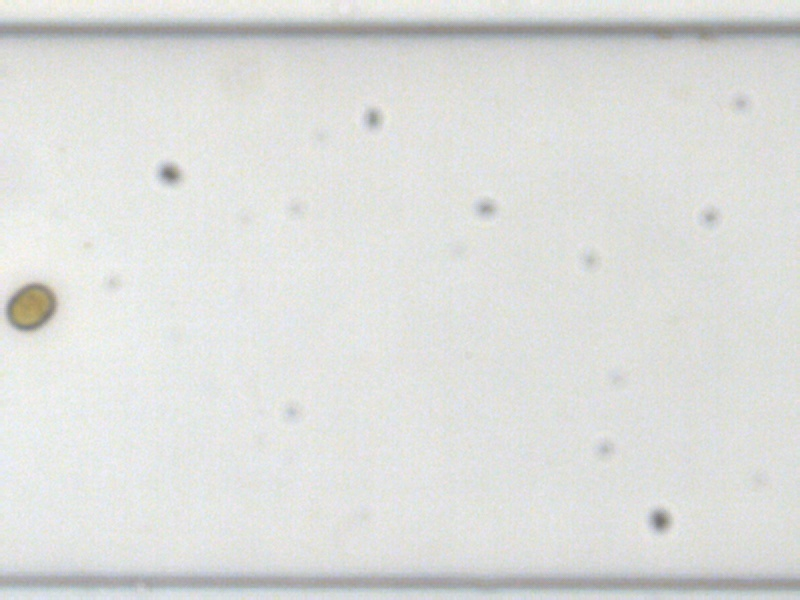Effrenium: (3, 279, 57, 332)
